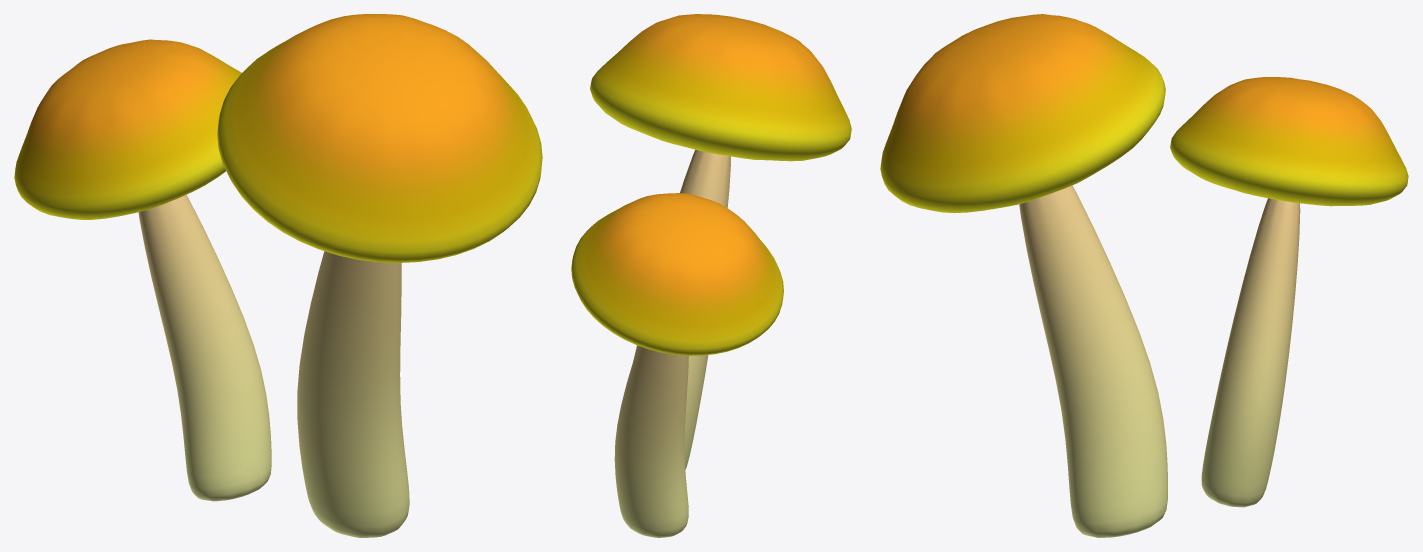
File: Mushrooms2.fbx
3 views of the same model, side by side, from view 1: azimuth 30°, elevation 25°; view 2: azimuth 150°, elevation 25°; view 3: azimuth 270°, elevation 25° (orthographic). The views are drawn at different scales.
Visible parts, largest first — view 1: MushroomCap.001, MushroomCap.002, MushroomStem.001, MushroomStem.002; view 2: MushroomCap.001, MushroomCap.002, MushroomStem.002, MushroomStem.001; view 3: MushroomCap.001, MushroomStem.001, MushroomCap.002, MushroomStem.002.
Boxes of the visible parts, box(x1,y1,x2,y2) form: MushroomCap.001: box(217, 14, 542, 262); MushroomCap.002: box(14, 39, 241, 219); MushroomStem.001: box(297, 251, 409, 537); MushroomStem.002: box(138, 194, 271, 501); MushroomCap.001: box(590, 14, 851, 161); MushroomCap.002: box(571, 193, 783, 355); MushroomStem.002: box(614, 346, 688, 537); MushroomStem.001: box(633, 149, 730, 469); MushroomCap.001: box(880, 14, 1165, 213); MushroomStem.001: box(1019, 185, 1167, 537); MushroomCap.002: box(1170, 77, 1408, 206); MushroomStem.002: box(1201, 198, 1300, 507).
Size of the model in its own units: 608 by 898 by 884.
